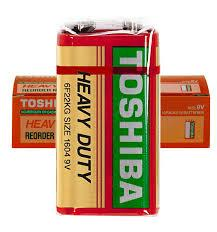9V: (57, 20, 164, 219)
